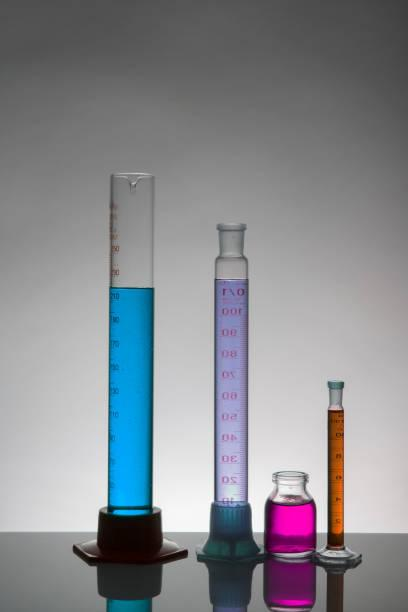Test tube: (96, 159, 161, 550), (206, 211, 256, 558), (323, 375, 356, 570)
Titrarion: (265, 462, 314, 572)
